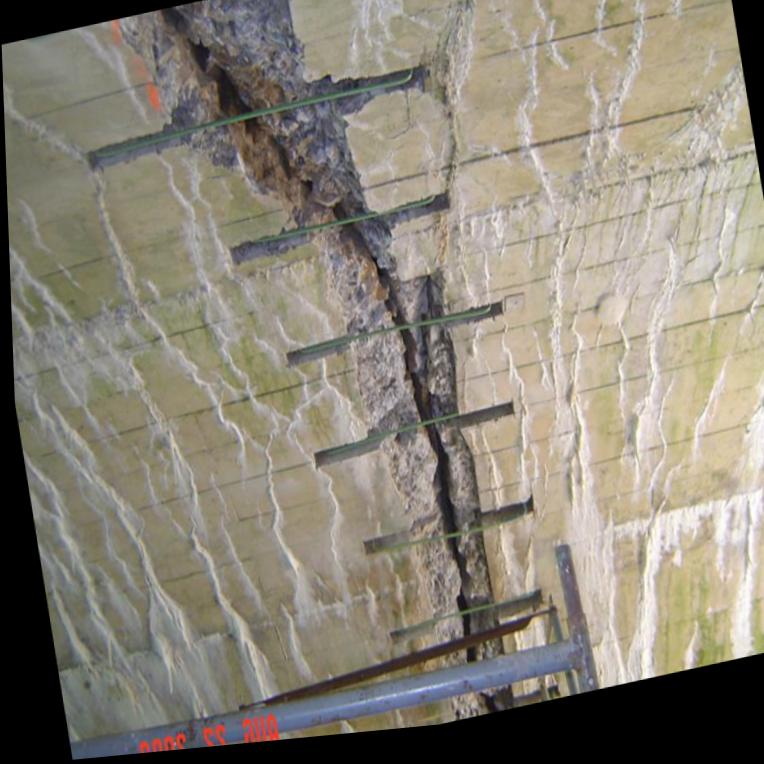damage: (86, 0, 536, 649)
